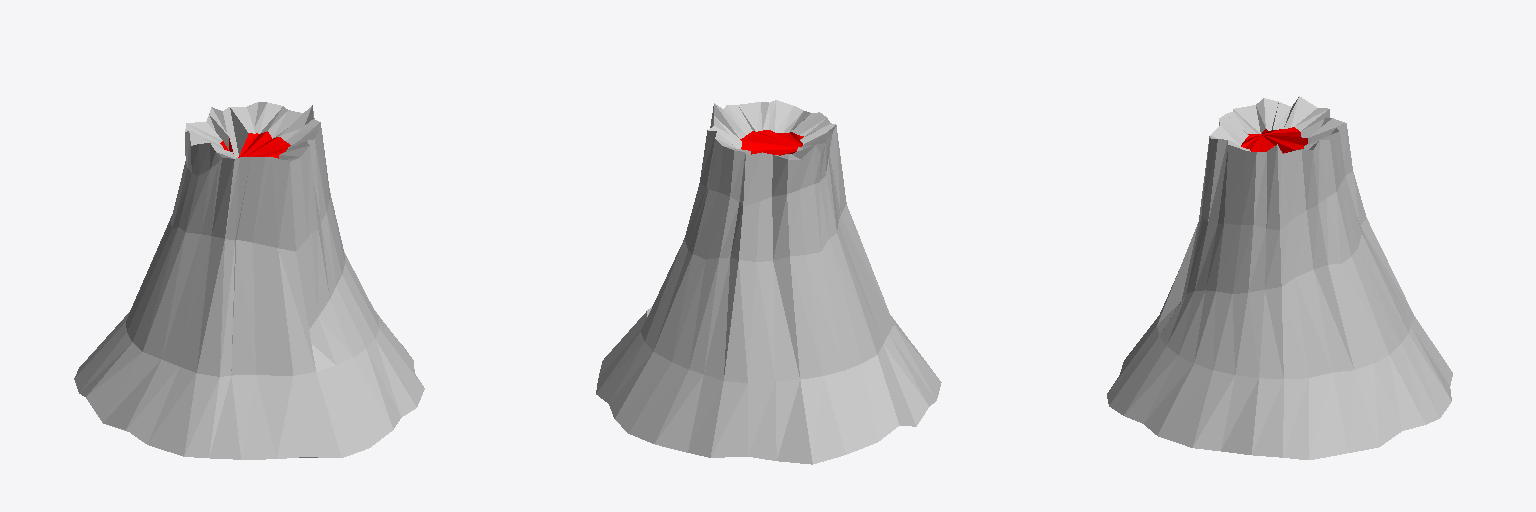
The picture shows the model from 3 angles: view 1: azimuth 30°, elevation 25°; view 2: azimuth 150°, elevation 25°; view 3: azimuth 270°, elevation 25°; orthographic projection.
Parts seen in each view (by area): view 1: Cone; view 2: Cone; view 3: Cone.
Part boxes in pixels (left/top/right/bottom): Cone: left=74, top=102, right=424, bottom=459; Cone: left=596, top=100, right=941, bottom=464; Cone: left=1107, top=96, right=1452, bottom=459.
Size of the model in its own units: 3.03 by 2.66 by 3.01.
2 materials, 1 textured.